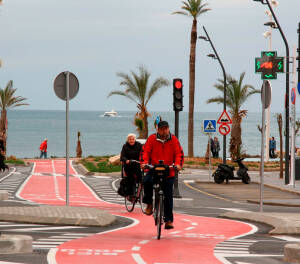Persona: (138, 121, 178, 230)
Vehiculo: (141, 162, 177, 241)
